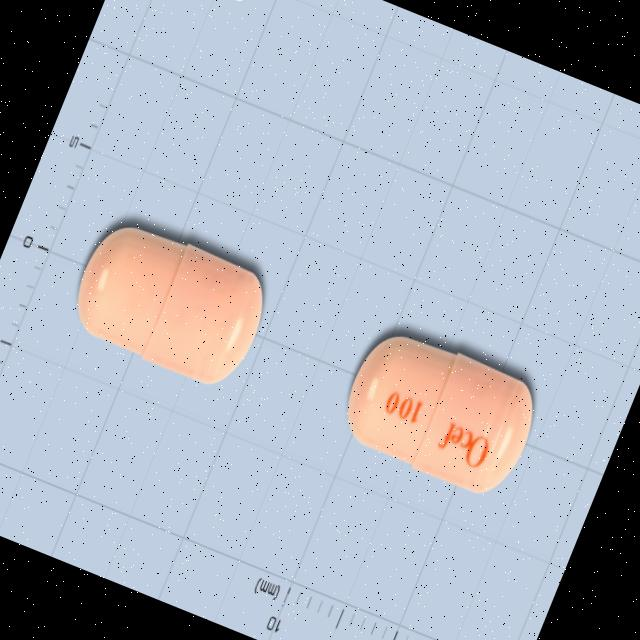Omnicef Cap: (330, 318, 548, 506), (61, 210, 279, 396)
